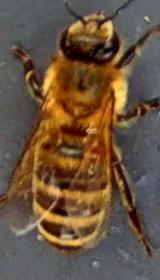varroa_mite: (78, 124, 112, 174)
